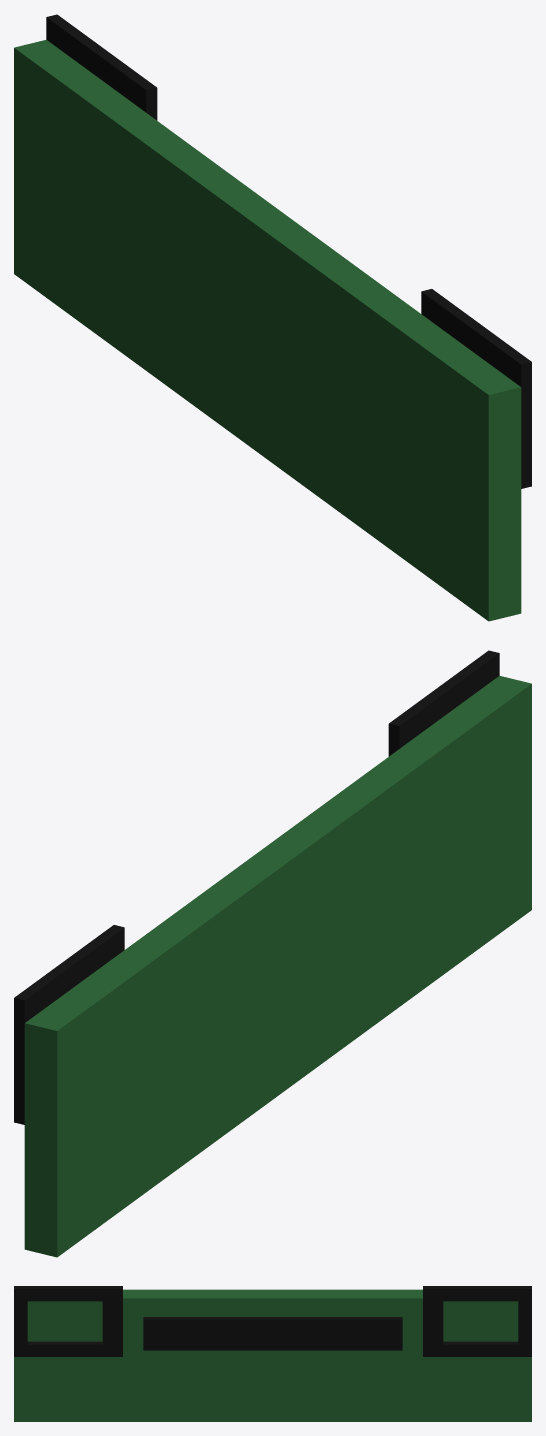
Rendered from tour_bus_open_top_front_panel.glb.
The picture shows the model from 3 angles, top to bottom: view 1: azimuth 30°, elevation 25°; view 2: azimuth 150°, elevation 25°; view 3: azimuth 270°, elevation 25°; orthographic projection. The views are drawn at different scales.
Visible parts, largest first — view 1: body:compound; view 2: body:compound; view 3: body:compound.
Part boxes in pixels (x1,y1,x2,y2): body:compound: [14, 14, 531, 621]; body:compound: [14, 650, 531, 1257]; body:compound: [14, 1286, 531, 1421].
Size of the model in its own units: 0.125 by 0.6875 by 2.38.
